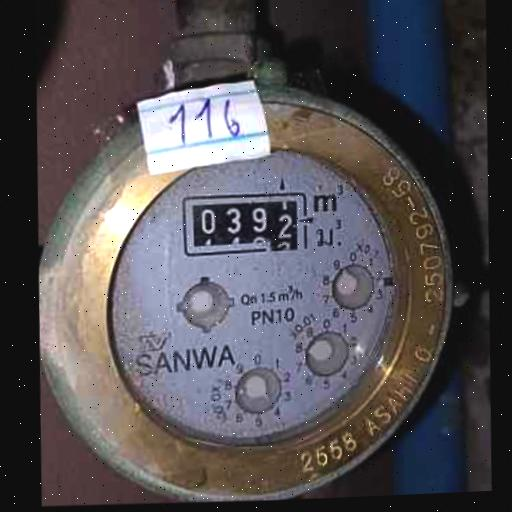0: (192, 204, 223, 246)
2: (270, 201, 299, 251)
3: (220, 202, 251, 244)
9: (247, 202, 274, 244)
border_water_meter_number: (181, 188, 309, 258)
